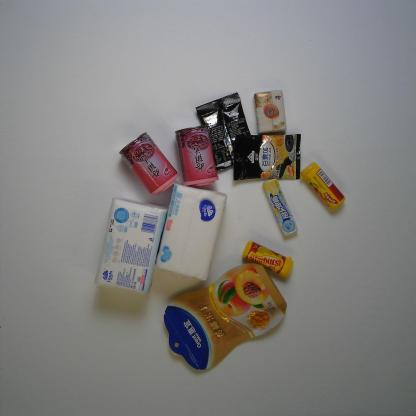Candy: (297, 161, 346, 212), (262, 177, 298, 238), (240, 238, 293, 278)
Canned Food: (118, 132, 179, 196), (174, 124, 218, 189)
Dried Fruit: (162, 263, 288, 371)
Instant Drink: (195, 91, 254, 173), (231, 133, 302, 182)
Tissue: (92, 196, 168, 295), (155, 183, 227, 282), (252, 89, 288, 135)
